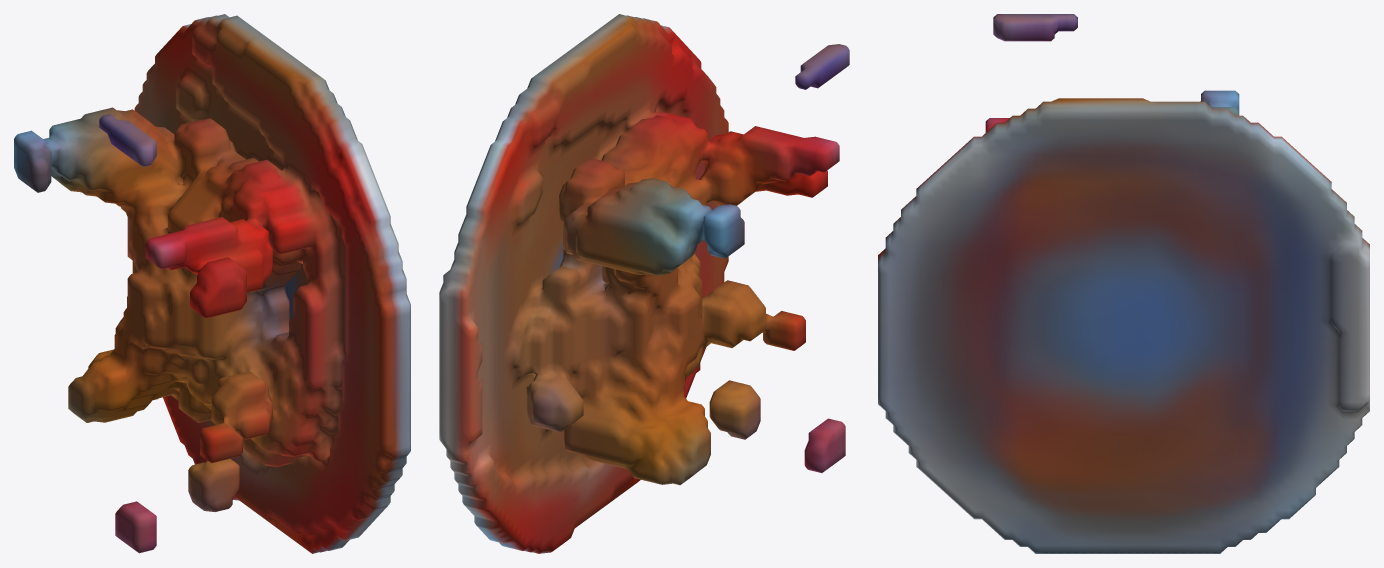
Rendered from A modern round glass table with three red legs, fe.glb.
3 views of the same model, side by side, from view 1: azimuth 30°, elevation 25°; view 2: azimuth 150°, elevation 25°; view 3: azimuth 270°, elevation 25° (orthographic). The views are drawn at different scales.
Parts seen in each view (by area): view 1: A modern round glass table with three red legs, fe; view 2: A modern round glass table with three red legs, fe; view 3: A modern round glass table with three red legs, fe.
Part boxes in pixels (x1,y1,x2,y2): A modern round glass table with three red legs, fe: [14, 14, 410, 553]; A modern round glass table with three red legs, fe: [439, 14, 849, 553]; A modern round glass table with three red legs, fe: [878, 14, 1369, 553].
Size of the model in its own units: 31 by 64 by 64.
